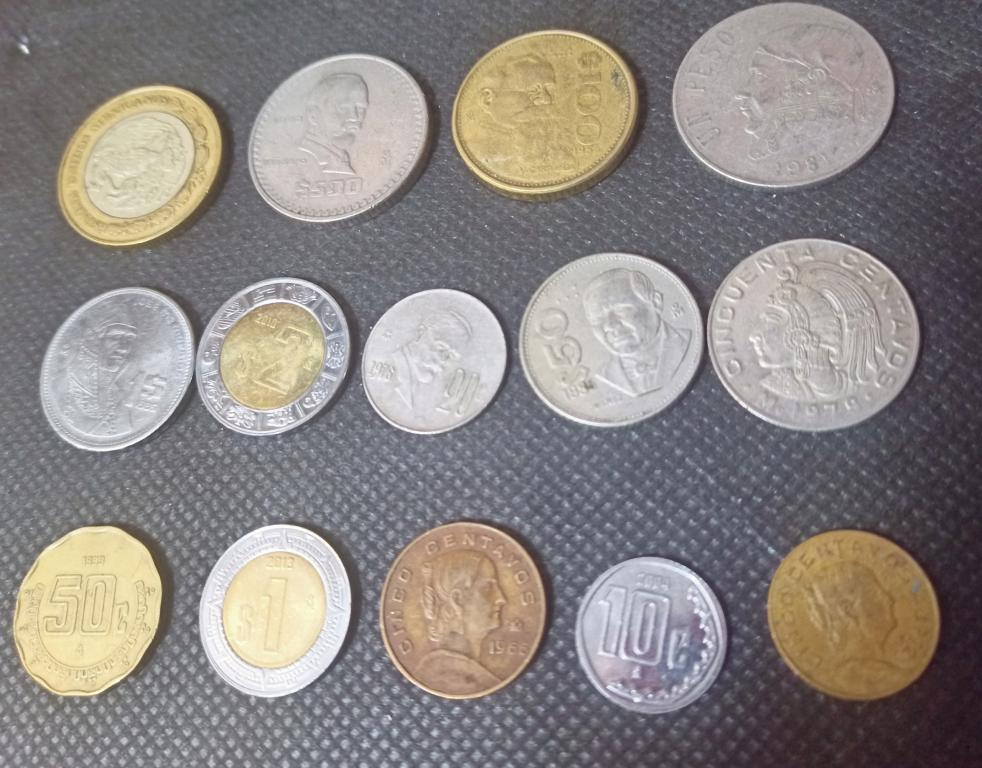coin: (671, 1, 897, 194), (709, 237, 921, 433), (450, 30, 640, 202), (517, 253, 704, 427), (246, 54, 430, 224), (378, 520, 547, 698), (767, 530, 941, 700), (56, 85, 222, 247), (198, 523, 352, 696), (37, 287, 196, 452), (13, 526, 163, 696), (195, 277, 352, 434), (576, 554, 728, 713), (360, 288, 507, 434)
